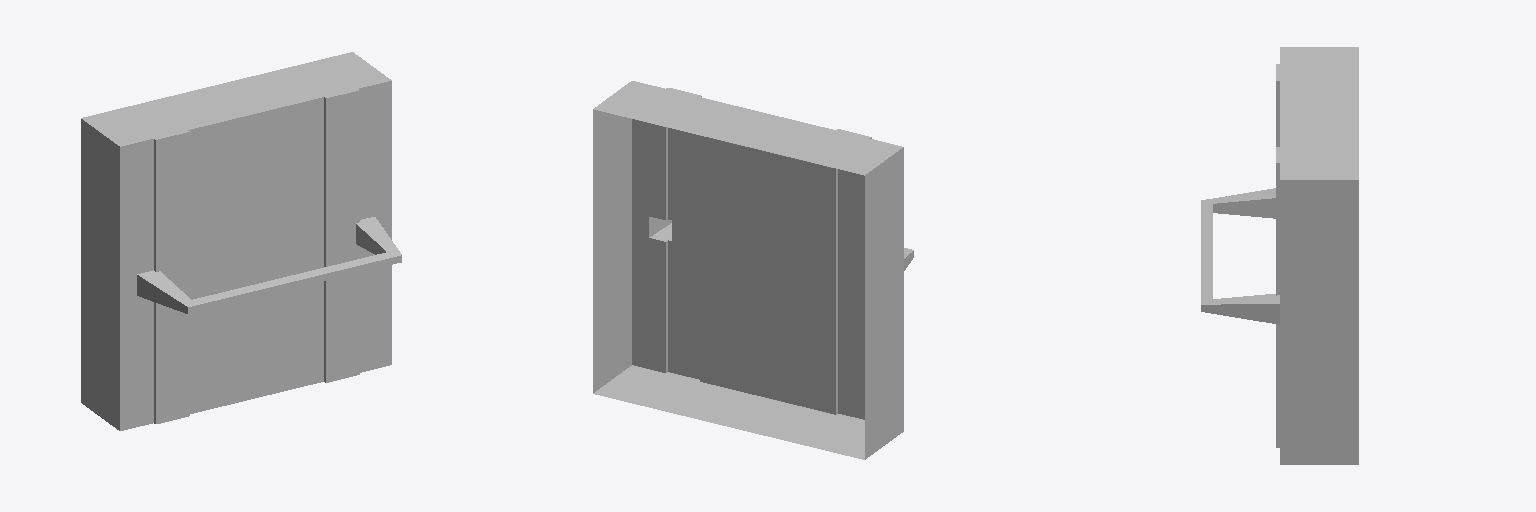
File: track-checkpoint.obj
3 views of the same model, side by side, from view 1: azimuth 30°, elevation 25°; view 2: azimuth 150°, elevation 25°; view 3: azimuth 270°, elevation 25° (orthographic).
Parts seen in each view (by area): view 1: track-checkpoint_Cube.001; view 2: track-checkpoint_Cube.001; view 3: track-checkpoint_Cube.001.
Part boxes in pixels (bbox=[...]): track-checkpoint_Cube.001: bbox=[81, 52, 401, 430]; track-checkpoint_Cube.001: bbox=[593, 81, 913, 459]; track-checkpoint_Cube.001: bbox=[1201, 47, 1358, 464].
Size of the model in its own units: 8 by 8 by 4.